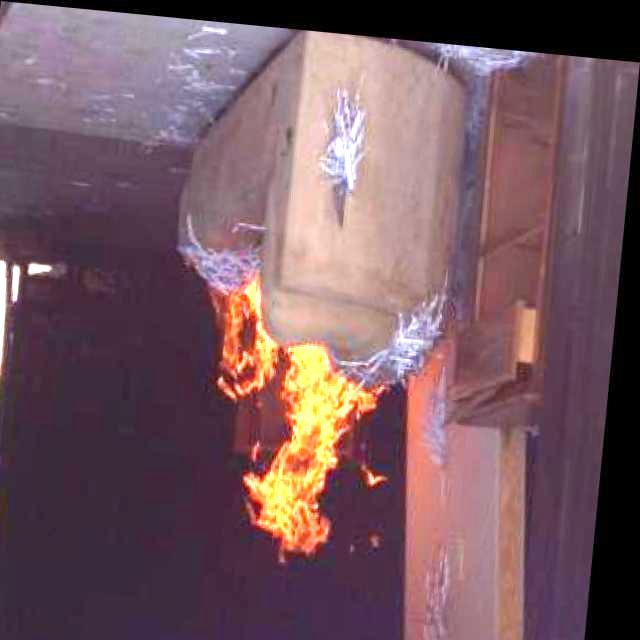fire: (170, 266, 386, 576)
